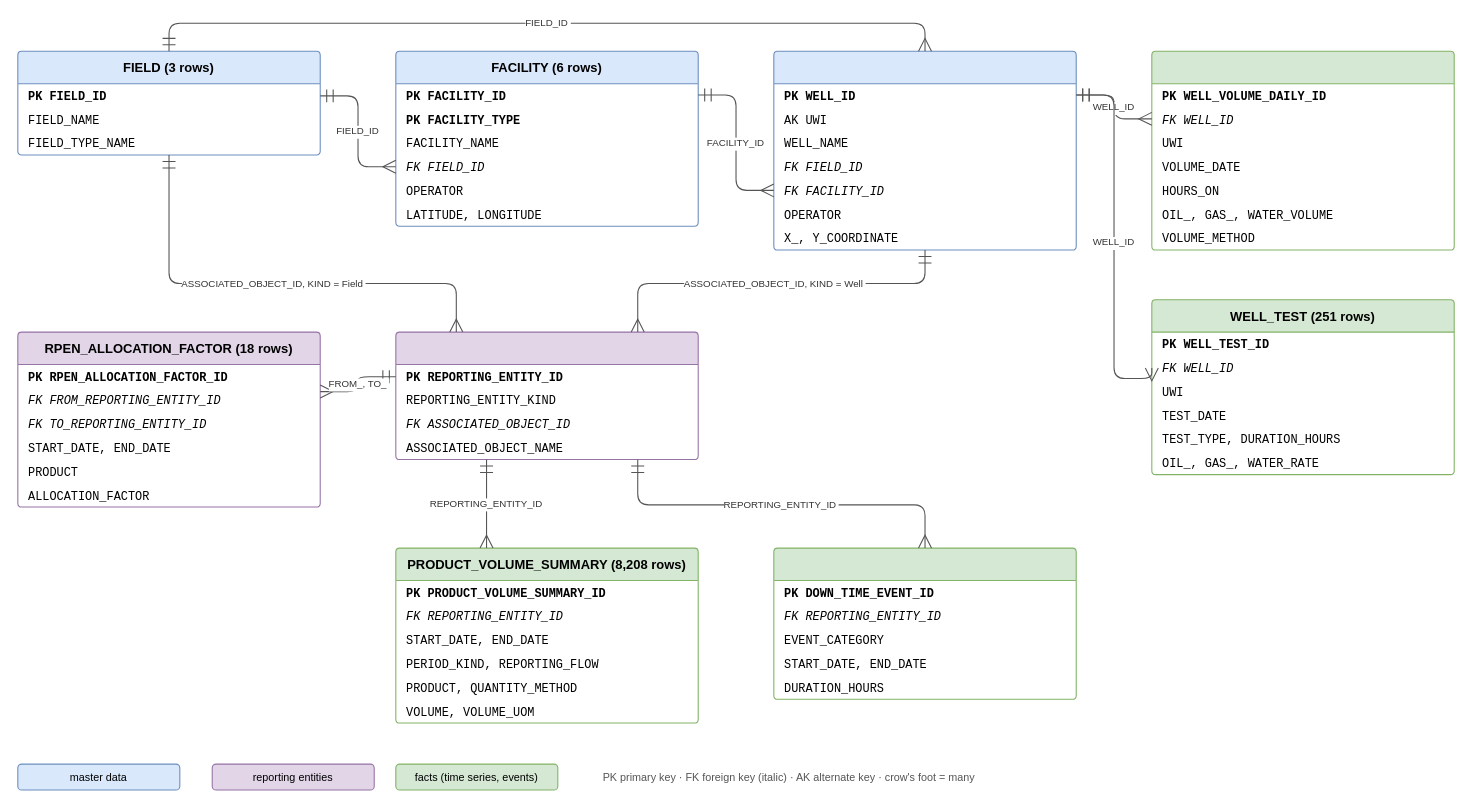
Image size: 1472x808. Some labels were removed from this diagram. Here are the shapes that lost their labels. From the top down, the box of each, then its label:
(773, 50, 1076, 250): WELL (18 rows)
(1151, 50, 1454, 250): WELL_VOL_DAILY (8,208 rows)
(395, 331, 698, 460): REPORTING_ENTITY (21 rows)
(773, 547, 1076, 699): DOWN_TIME_EVENT (282 rows)
